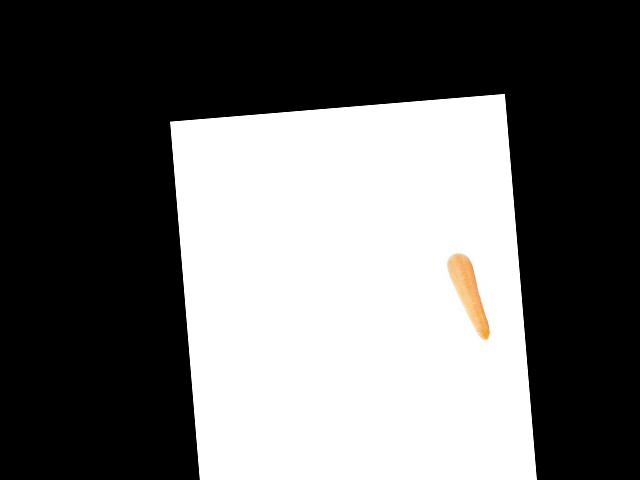carrot: (445, 245, 493, 347)
